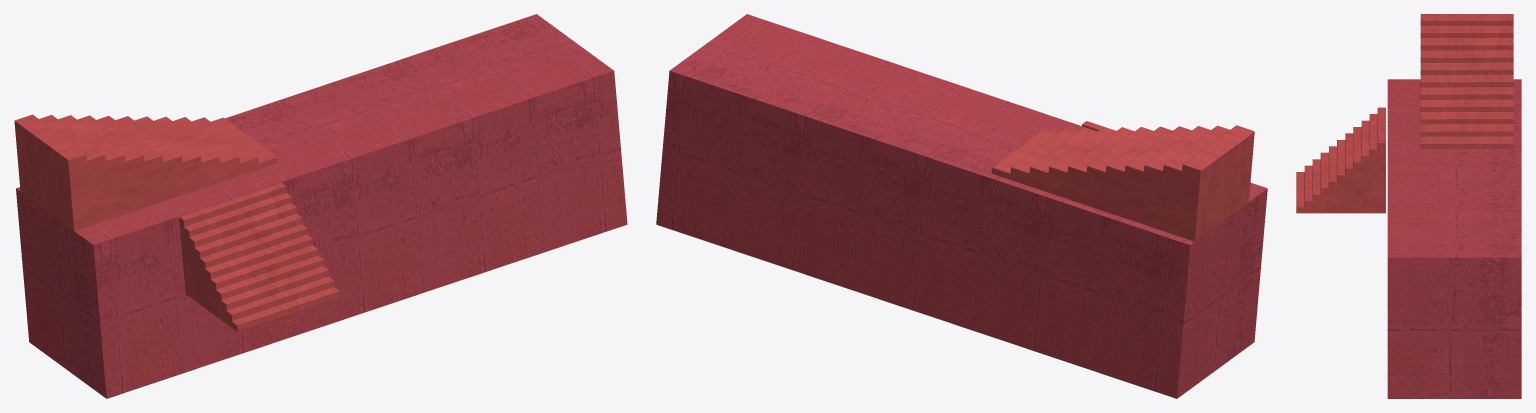
File: kv1-scenes.gltf
3 renders of one model, left to right at view 1: azimuth 30°, elevation 25°; view 2: azimuth 150°, elevation 25°; view 3: azimuth 270°, elevation 25°, orthographic. The views are drawn at different scales.
Parts seen in each view (by area): view 1: cube, Stair_extrude.001, Stair_extrude; view 2: cube, Stair_extrude.001; view 3: cube, Stair_extrude.001, Stair_extrude.
Boxes of the visible parts, <box> form: cube: <box>16,14,627,398</box>; Stair_extrude.001: <box>14,114,277,230</box>; Stair_extrude: <box>179,182,339,331</box>; cube: <box>656,14,1267,398</box>; Stair_extrude.001: <box>991,125,1254,241</box>; cube: <box>1387,79,1521,398</box>; Stair_extrude.001: <box>1420,14,1513,148</box>; Stair_extrude: <box>1296,107,1385,213</box>.
Size of the model in its own units: 642 by 263 by 269.
Materials: 2 (2 with a texture image).
